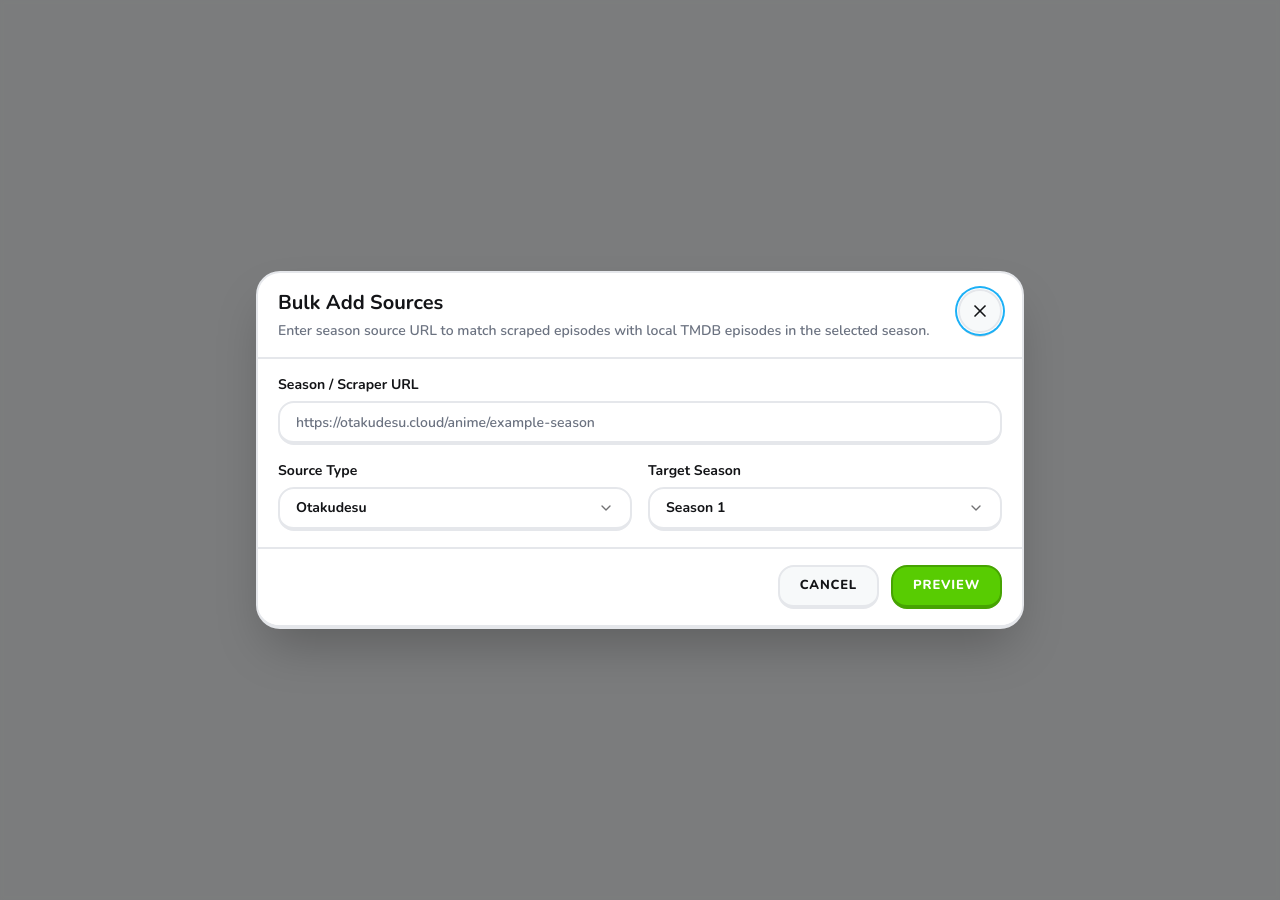
Test: BulkScrapeModal component › keeps Target Season selection without any offset field or helper text
Step 1. Click the dropdown named "Target Season" → (696,508), box x1=648 y1=487 x2=1002 y2=531
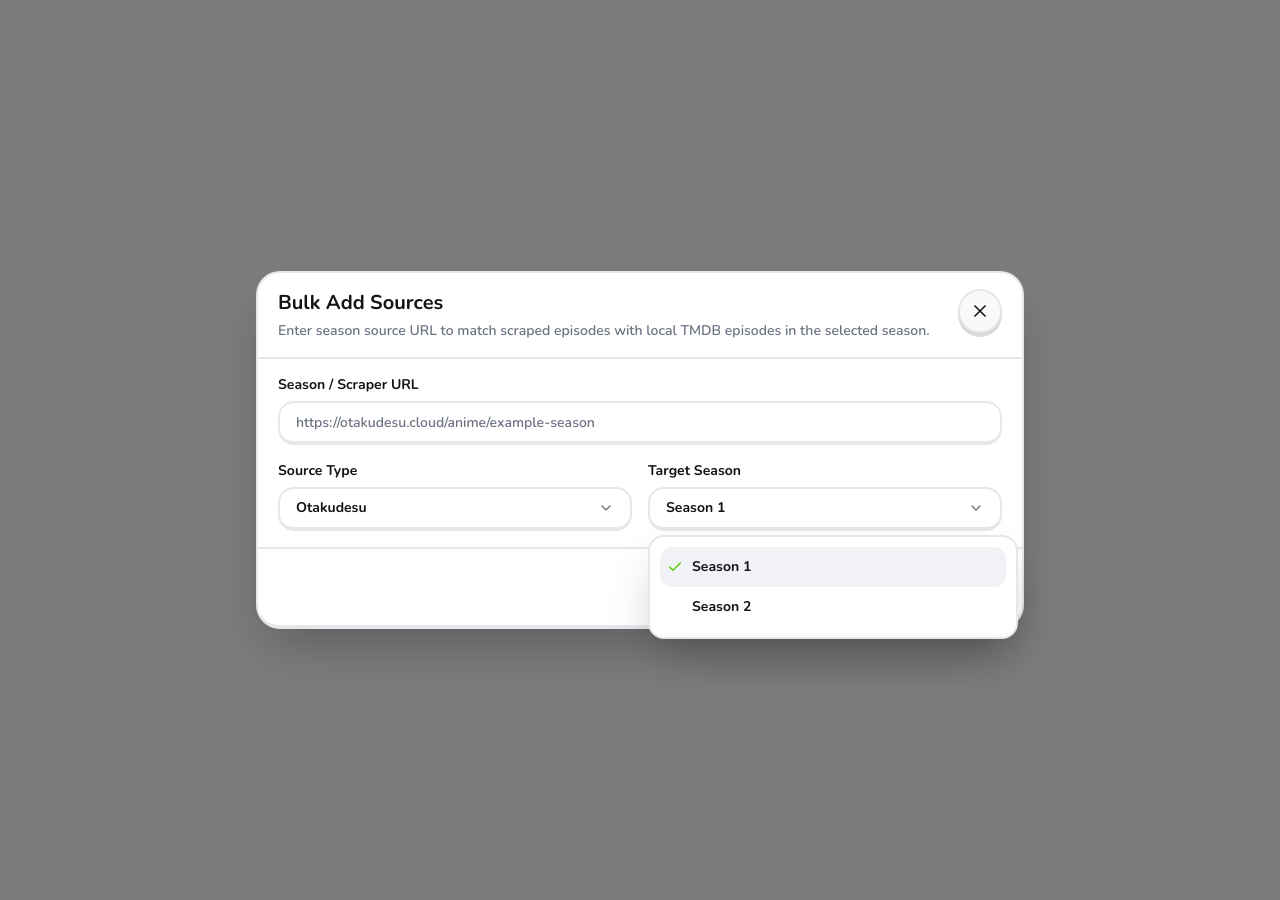
Step 2. Click the option "Season 2" → (722,606), box x1=692 y1=597 x2=751 y2=616
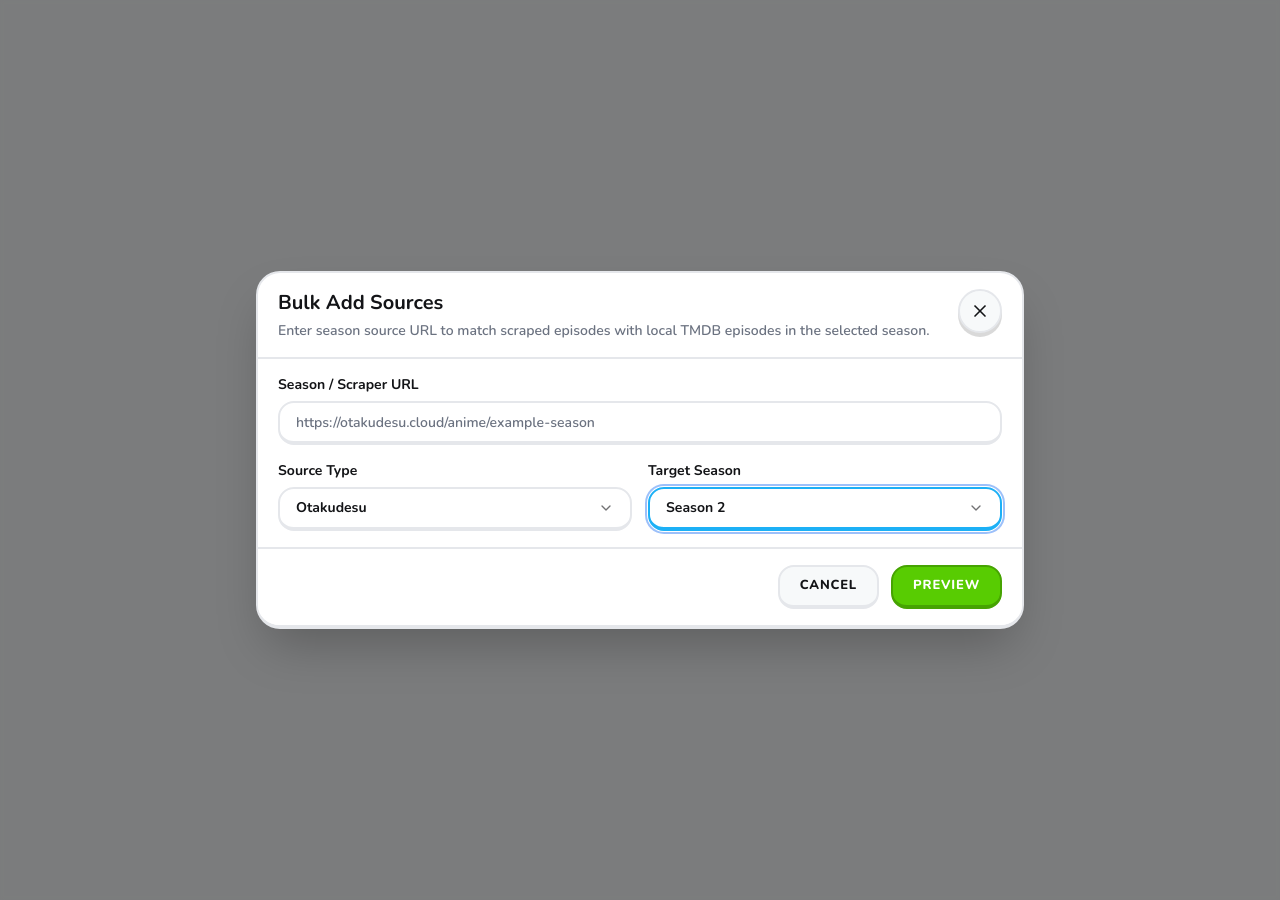
Result: the dropdown named "Target Season" reads "Season 2" at x1=648 y1=487 x2=1002 y2=531
